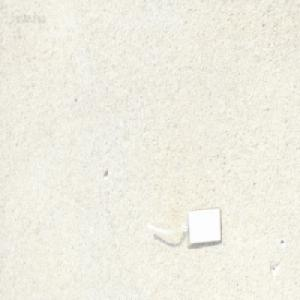LuggageTag: (145, 204, 221, 247)
